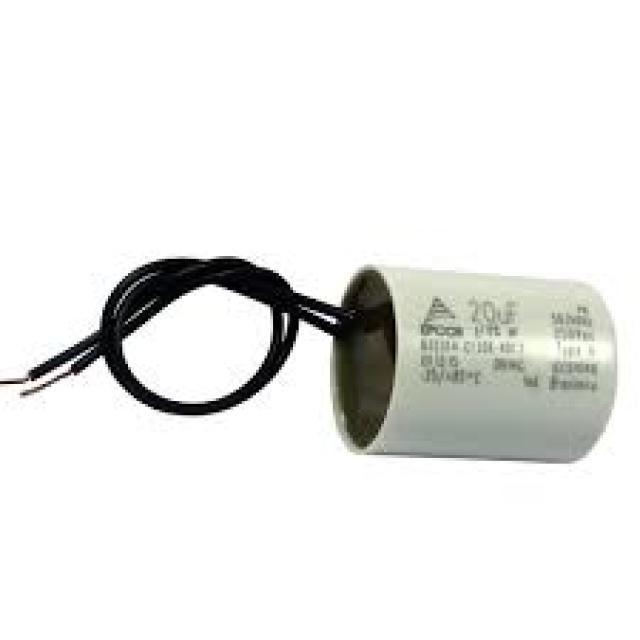Capacitor: (31, 259, 620, 466)
